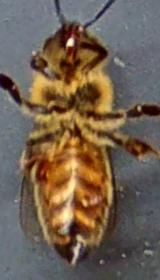varroa_mite: (72, 184, 106, 213), (32, 152, 53, 184)
